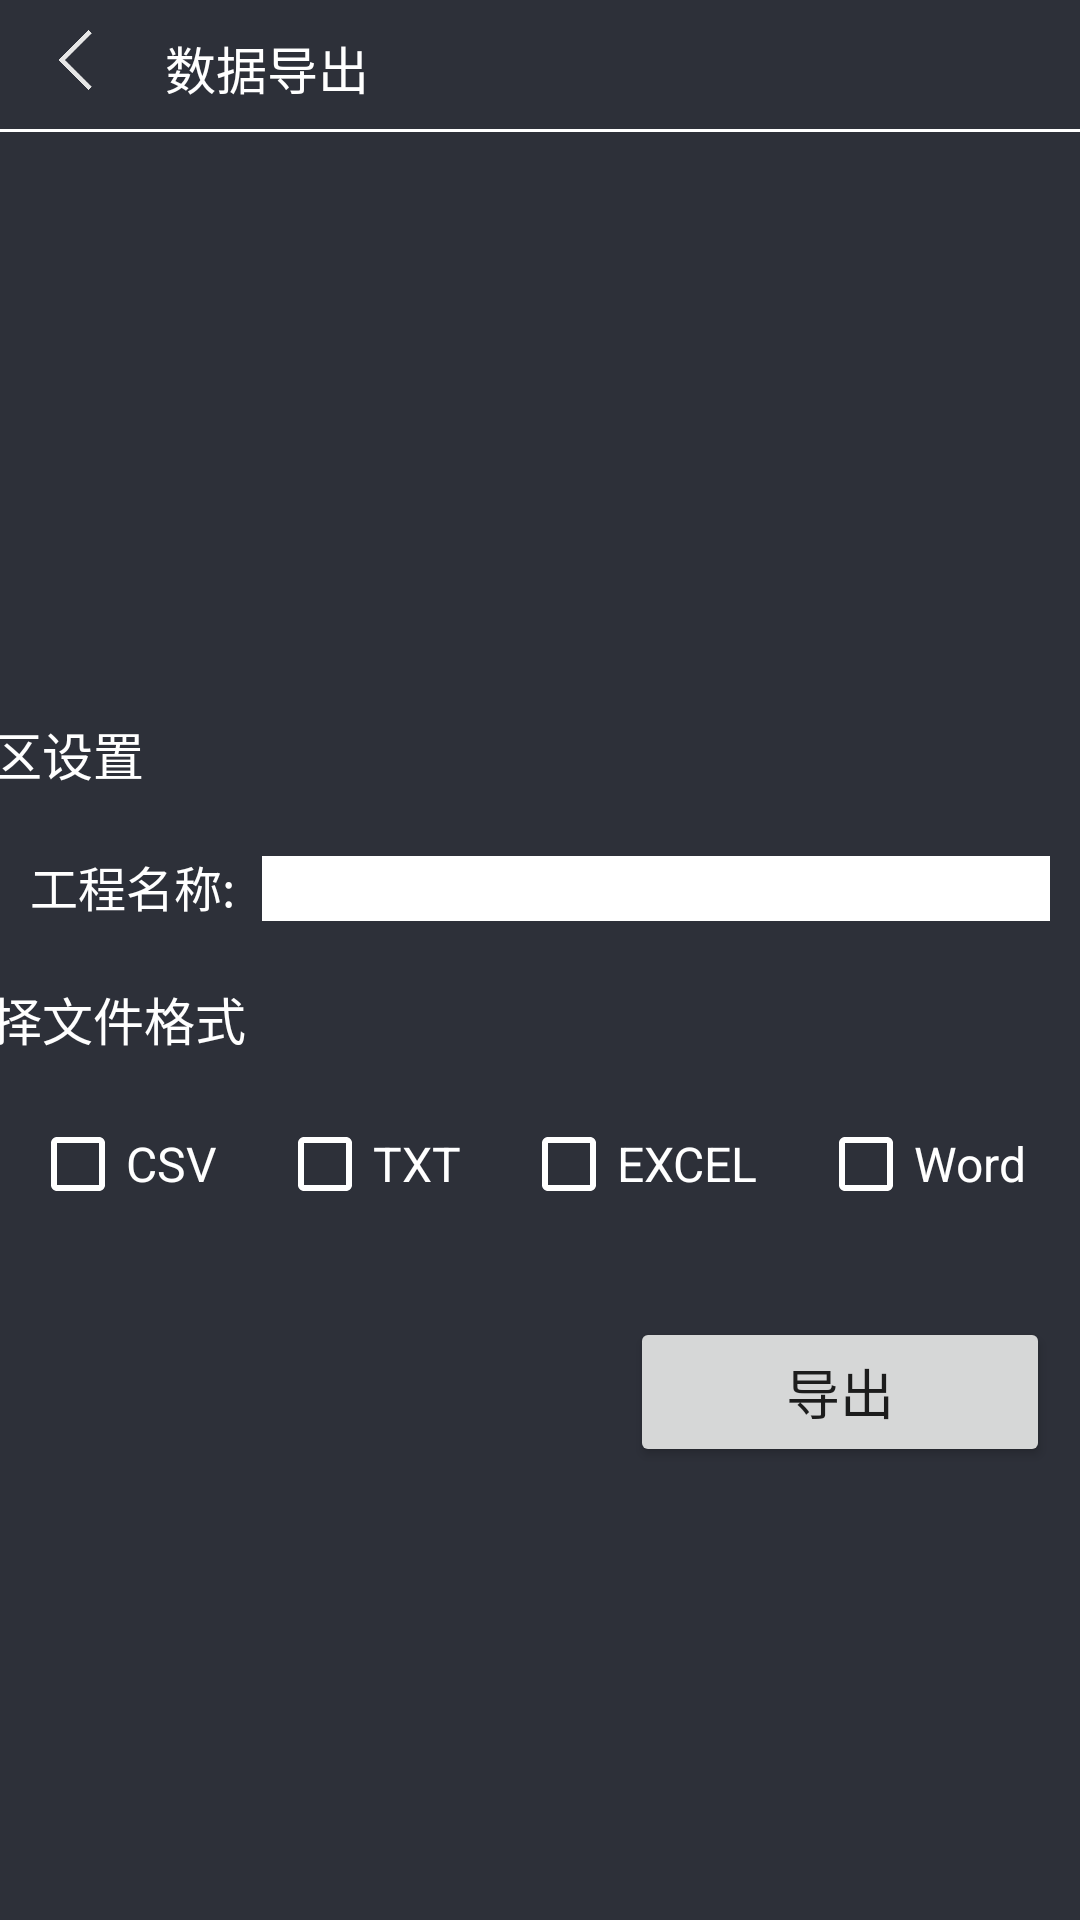

Point at icon controls on the screen. Image size 1080 x 1920, points as (x,y).
back: (75,60)
